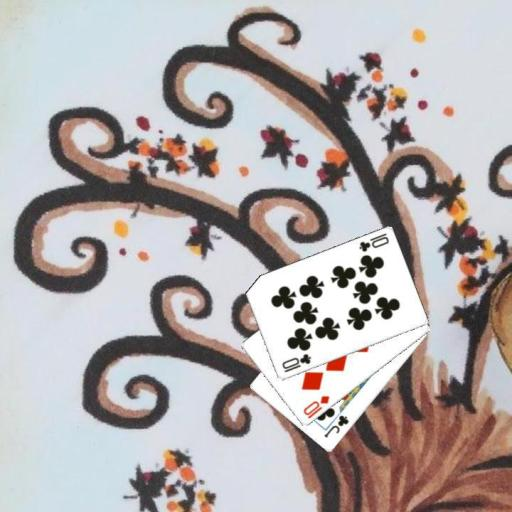10C: (356, 230, 391, 254), (279, 351, 313, 374)
10D: (300, 393, 331, 420)
JC: (321, 413, 351, 440)
